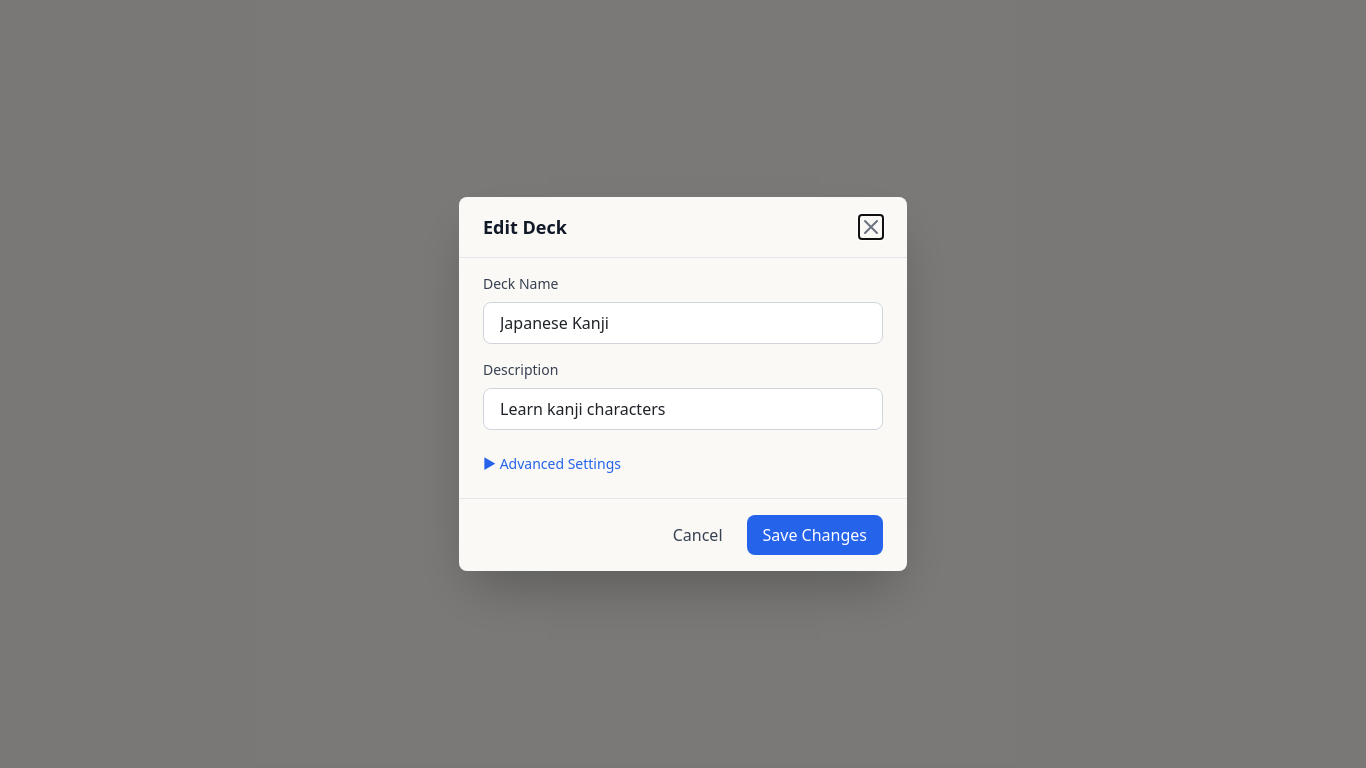
Test: EditDeckModal › validates required name field
Clear the field labelled "Deck Name" at (683, 323), box [483, 302, 883, 344]
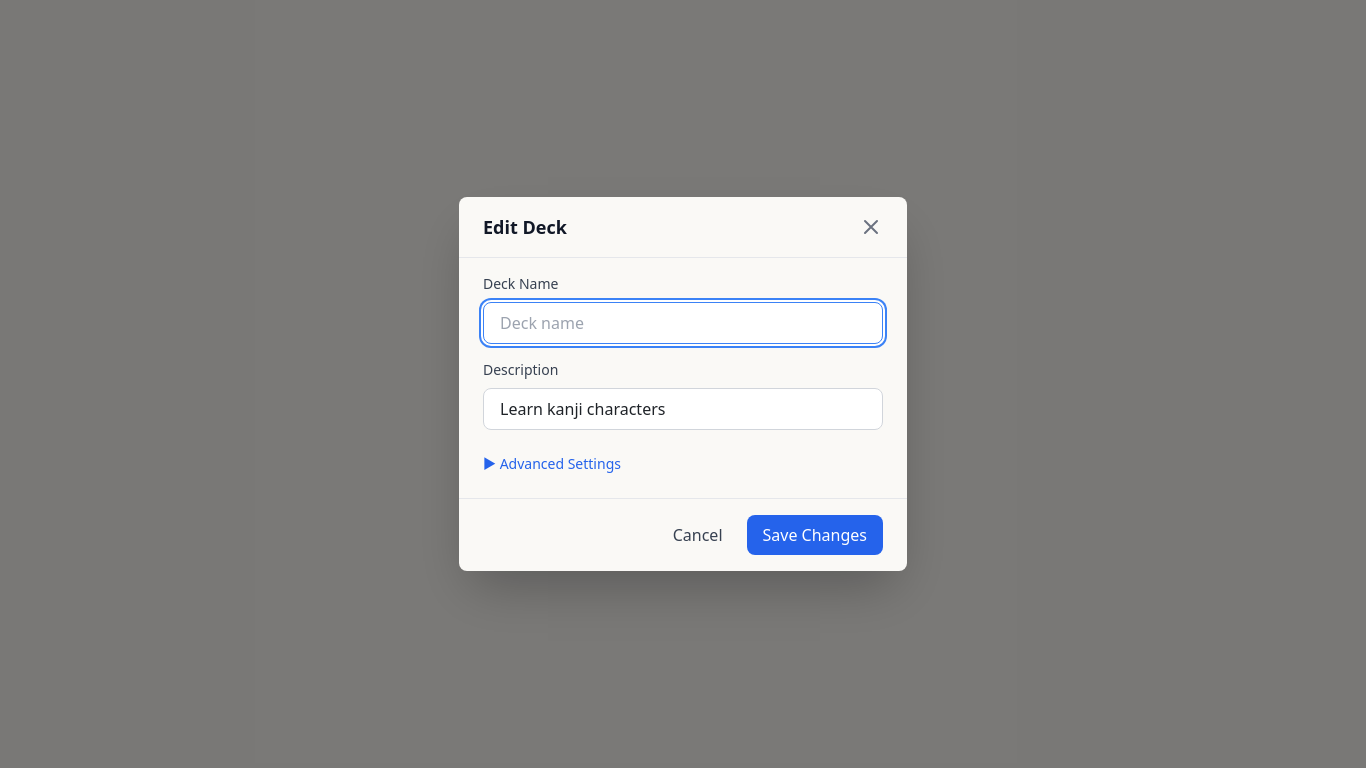
Click the button "Save Changes" at (815, 535), box [746, 515, 883, 555]
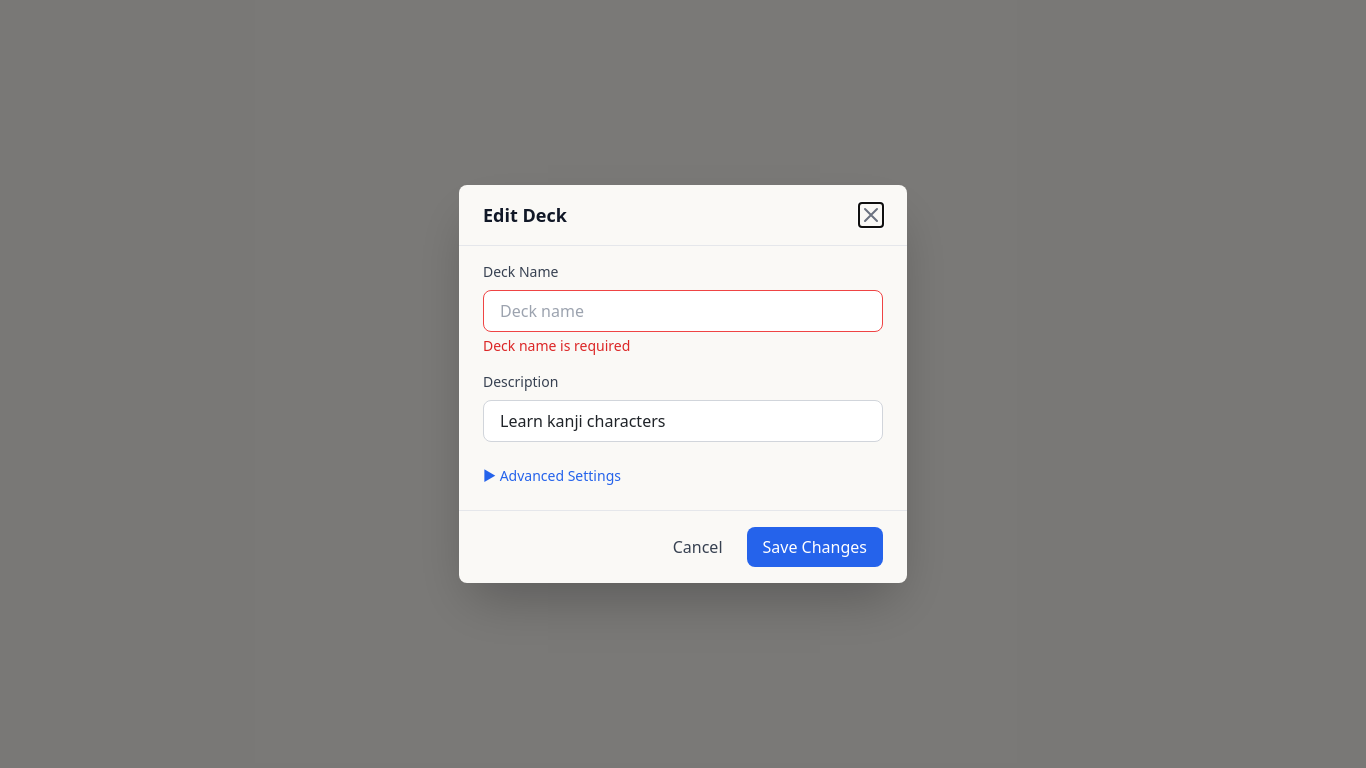
Expected: the text "Deck name is required" is shown, [483, 336, 630, 355]
